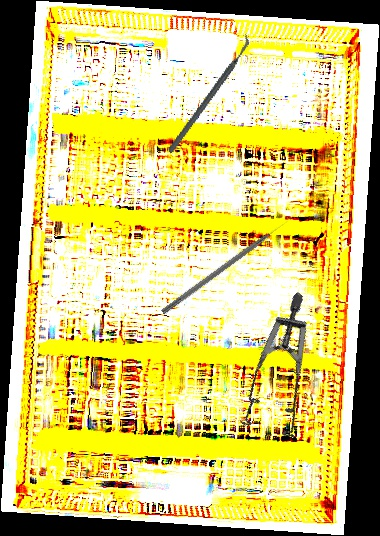Chopper: (137, 32, 281, 154)
Hook Surgical: (160, 218, 291, 316)
Speculum: (203, 291, 369, 457)
